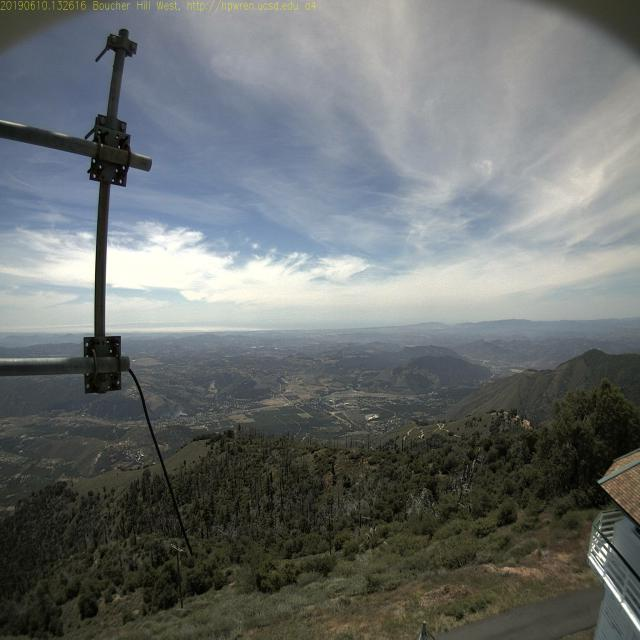smoke: (168, 395, 198, 425), (171, 406, 190, 420)
